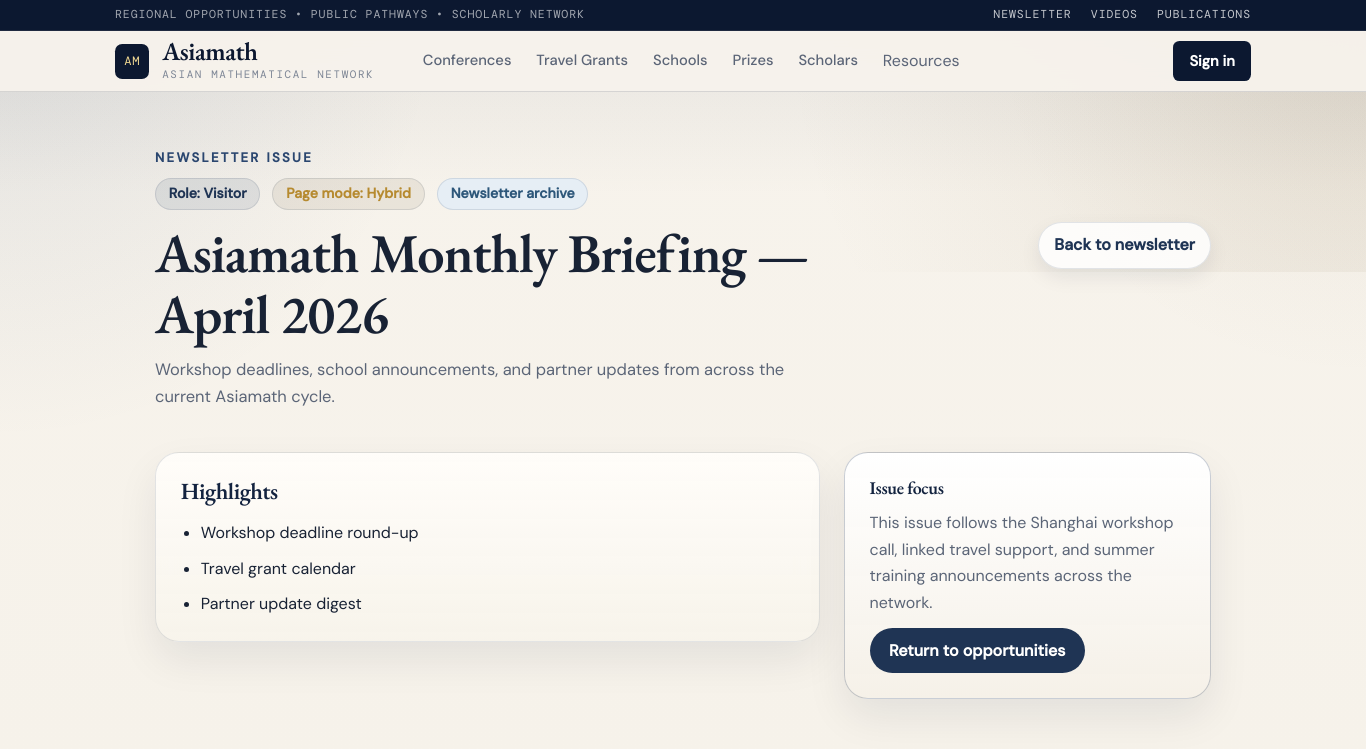
it: newsletter pages › preserves a return link to the newsletter issue when moving into opportunities
Click the link "Return to opportunities": [977, 650] box top-left (870, 628), bottom-right (1085, 673)
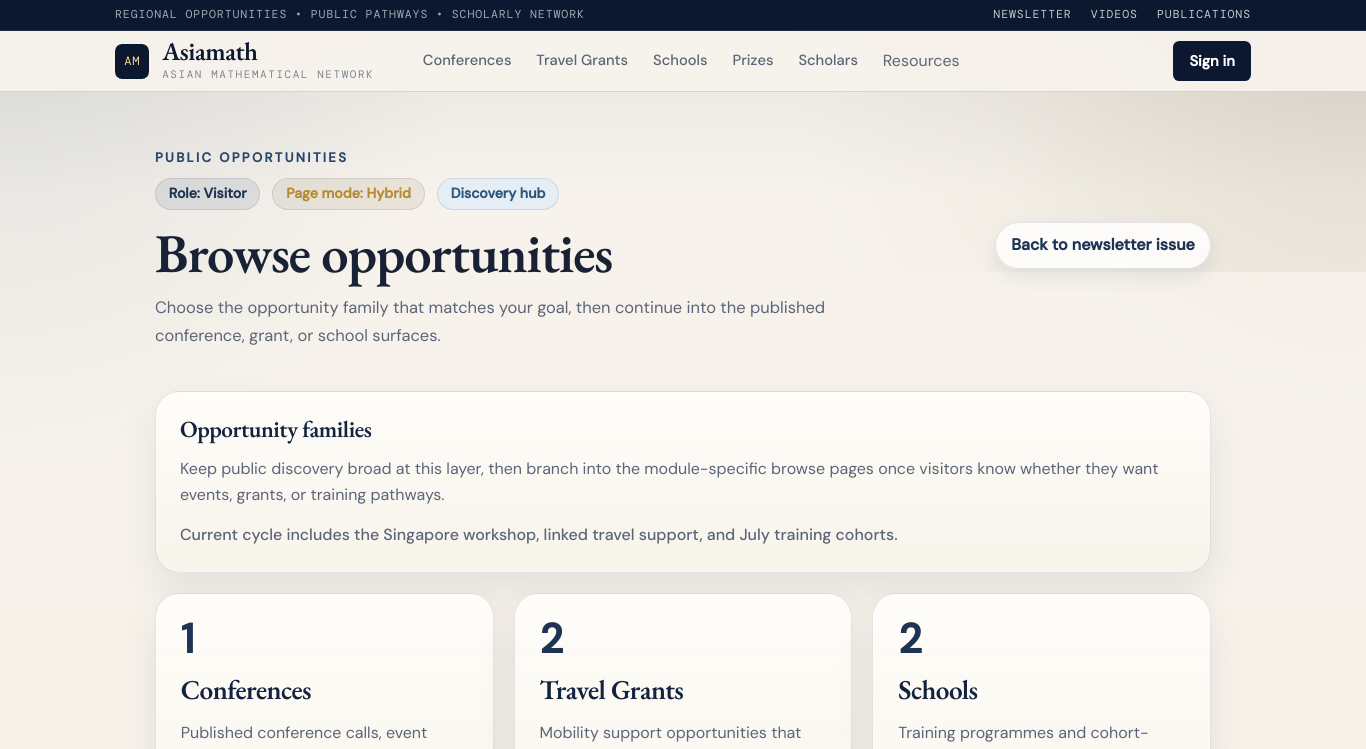
Result: the heading "Browse opportunities" is shown at top-left (155, 217), bottom-right (612, 288)
